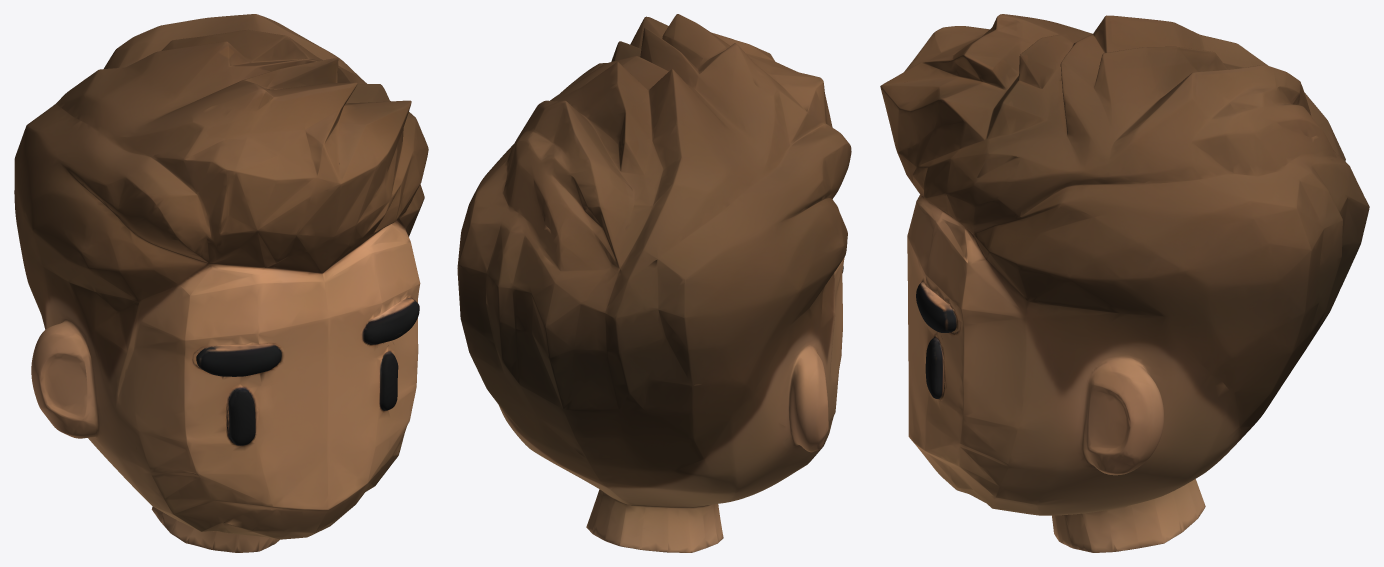
The model's file is quiff-hunyuan.glb.
3 views of the same model, side by side, from view 1: azimuth 30°, elevation 25°; view 2: azimuth 150°, elevation 25°; view 3: azimuth 270°, elevation 25° (orthographic). The views are drawn at different scales.
Parts seen in each view (by area): view 1: node_0; view 2: node_0; view 3: node_0.
Part boxes in pixels (left/top/right/bottom): node_0: left=14, top=14, right=428, bottom=552; node_0: left=457, top=14, right=851, bottom=552; node_0: left=880, top=14, right=1369, bottom=552.
Bounding box in the file's own units: 0.7903 × 1.02 × 0.8822.
Materials: 1 (1 with a texture image).
